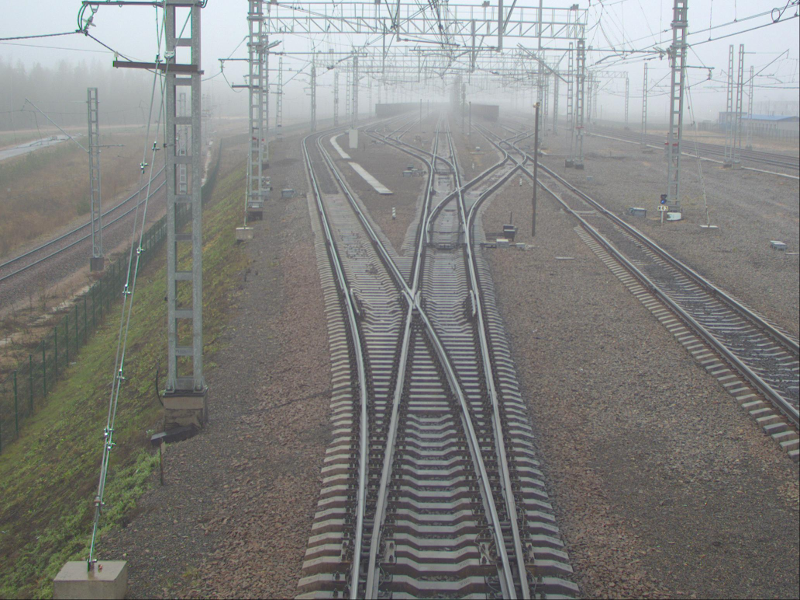left: (421, 189, 474, 245), (429, 153, 458, 174)
